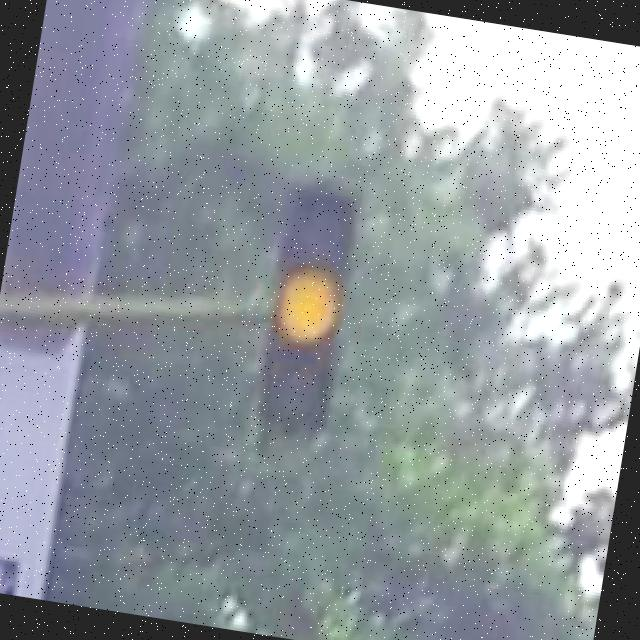Zolte swiatlo: (248, 181, 368, 434)
